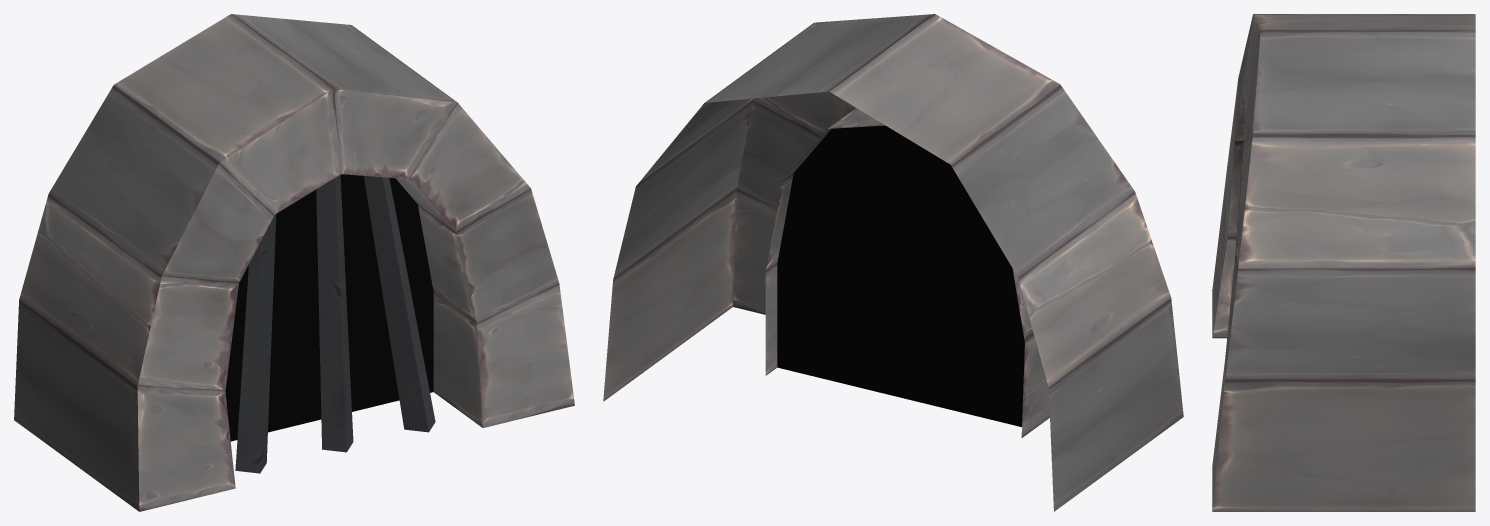
File: SM_BLD_window_v09_01.fbx
3 renders of one model, left to right at view 1: azimuth 30°, elevation 25°; view 2: azimuth 150°, elevation 25°; view 3: azimuth 270°, elevation 25°, orthographic. The views are drawn at different scales.
Parts seen in each view (by area): view 1: SM_BLD_window_v09_01; view 2: SM_BLD_window_v09_01; view 3: SM_BLD_window_v09_01.
Part boxes in pixels (x1,y1,x2,y2): SM_BLD_window_v09_01: [14, 14, 574, 511]; SM_BLD_window_v09_01: [603, 14, 1183, 511]; SM_BLD_window_v09_01: [1212, 14, 1475, 511].
Size of the model in its own units: 125 by 97.01 by 62.35.
